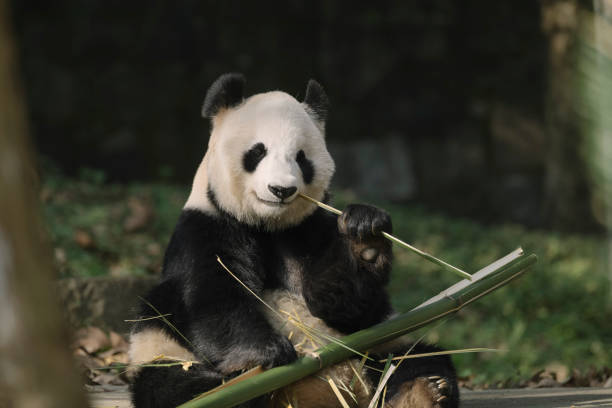panda: (193, 69, 355, 241)
